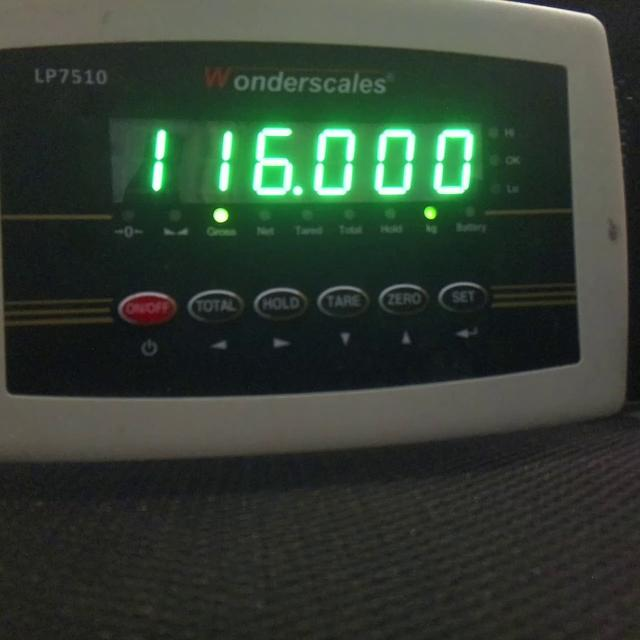.: (292, 184, 304, 195)
0: (313, 128, 356, 195), (374, 128, 416, 195), (433, 128, 473, 194)
1: (150, 128, 168, 192), (218, 130, 234, 192)
6: (252, 126, 296, 196)
